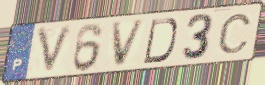3: (180, 12, 216, 62)
6: (71, 22, 104, 73)
C: (216, 12, 254, 56)
D: (141, 16, 179, 65)
V: (35, 23, 76, 78), (110, 17, 148, 70)
